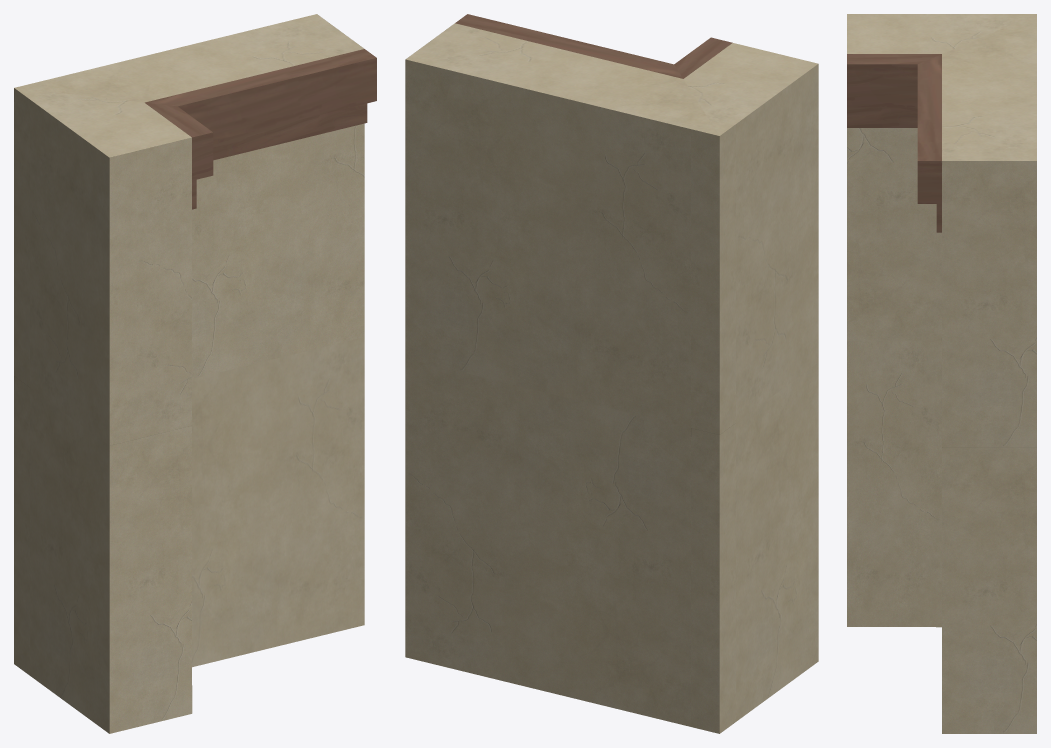
Rendered from LeftCornerWall.glb.
3 renders of one model, left to right at view 1: azimuth 30°, elevation 25°; view 2: azimuth 150°, elevation 25°; view 3: azimuth 270°, elevation 25°, orthographic. The views are drawn at different scales.
Visible parts, largest first — view 1: Left Corner Wall; view 2: Left Corner Wall; view 3: Left Corner Wall.
Boxes of the visible parts, <box> form: Left Corner Wall: <box>14,14,376,733</box>; Left Corner Wall: <box>405,14,818,733</box>; Left Corner Wall: <box>847,14,1036,733</box>.
Bounding box in the file's own units: 2.2 × 4 × 1.2.
Materials: 1 (1 with a texture image).
